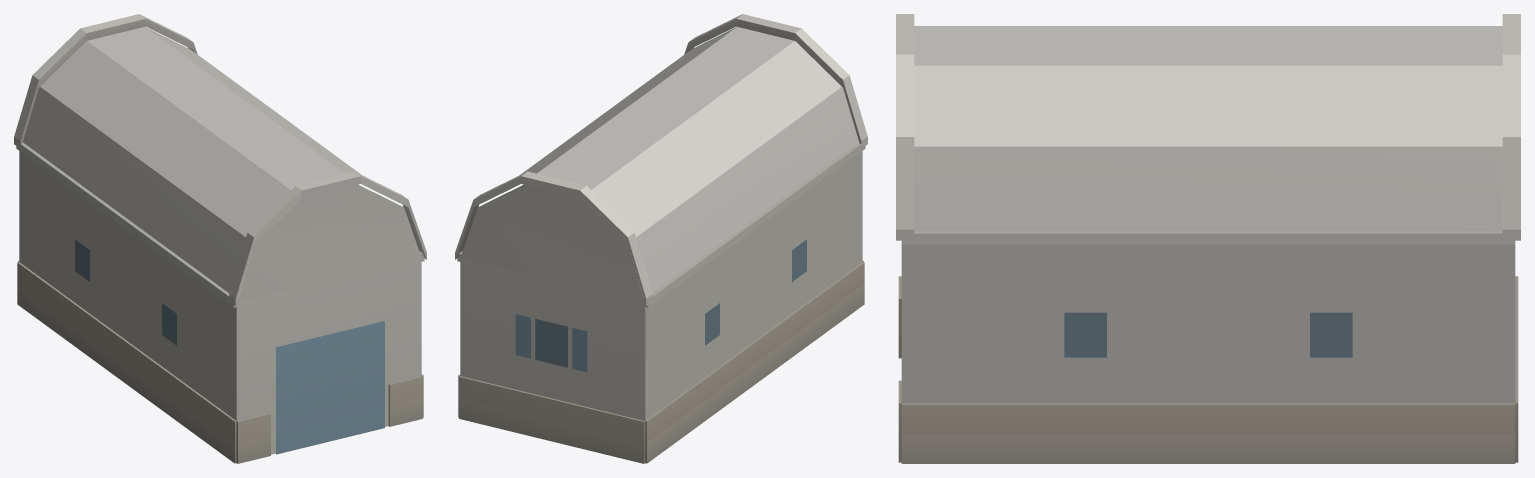
The model's file is boathouse.lod2.glb.
The picture shows the model from 3 angles, left to right: view 1: azimuth 30°, elevation 25°; view 2: azimuth 150°, elevation 25°; view 3: azimuth 270°, elevation 25°; orthographic projection. The views are drawn at different scales.
Size of the model in its own units: 4.38 by 5.67 by 8.8.
